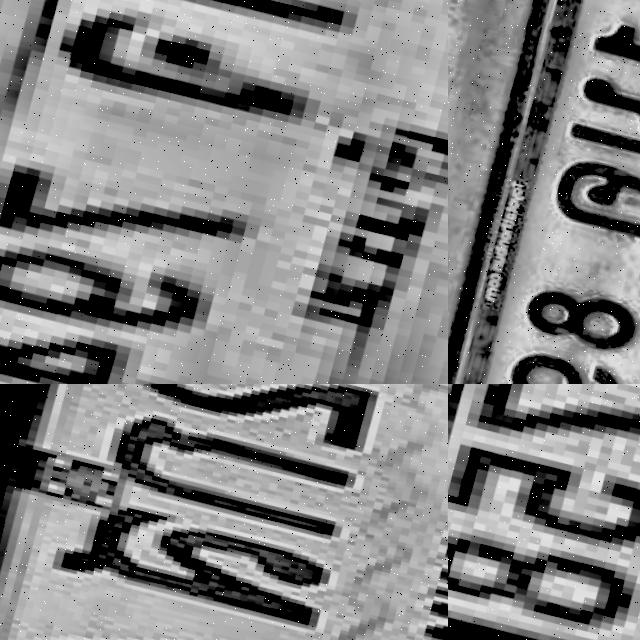license-plate: (0, 0, 448, 384), (0, 384, 448, 640), (448, 0, 640, 384), (448, 384, 640, 640)
